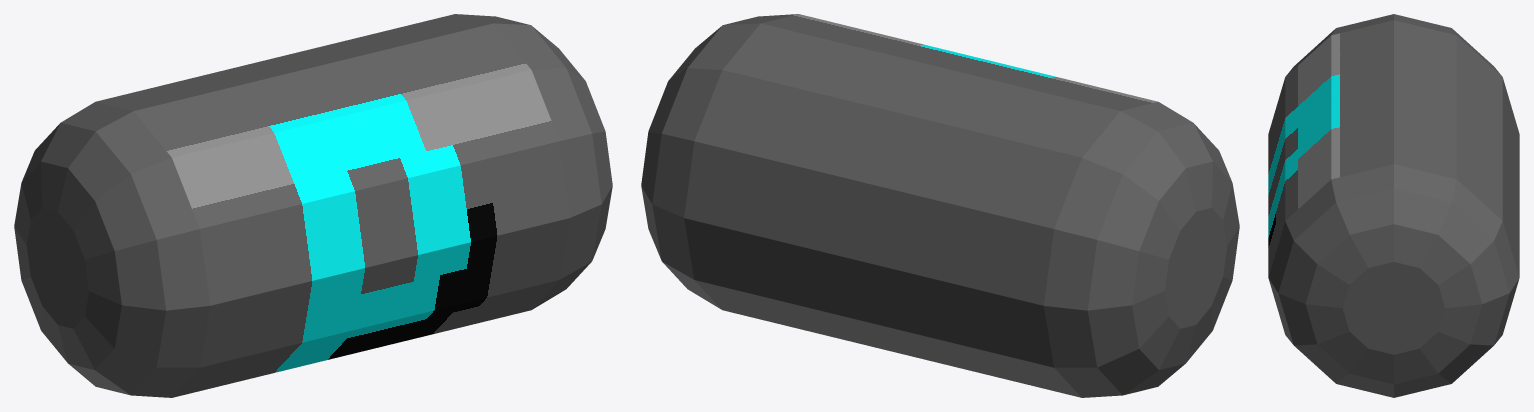
File: powerup_p.glb
3 renders of one model, left to right at view 1: azimuth 30°, elevation 25°; view 2: azimuth 150°, elevation 25°; view 3: azimuth 270°, elevation 25°, orthographic. The views are drawn at different scales.
Parts seen in each view (by area): view 1: Cylinder; view 2: Cylinder; view 3: Cylinder.
Boxes of the visible parts, <box> form: Cylinder: <box>14,14,612,397</box>; Cylinder: <box>641,14,1239,397</box>; Cylinder: <box>1268,14,1519,397</box>.
Size of the model in its own units: 0.162 by 0.084 by 0.084.
Materials: 1 (1 with a texture image).
